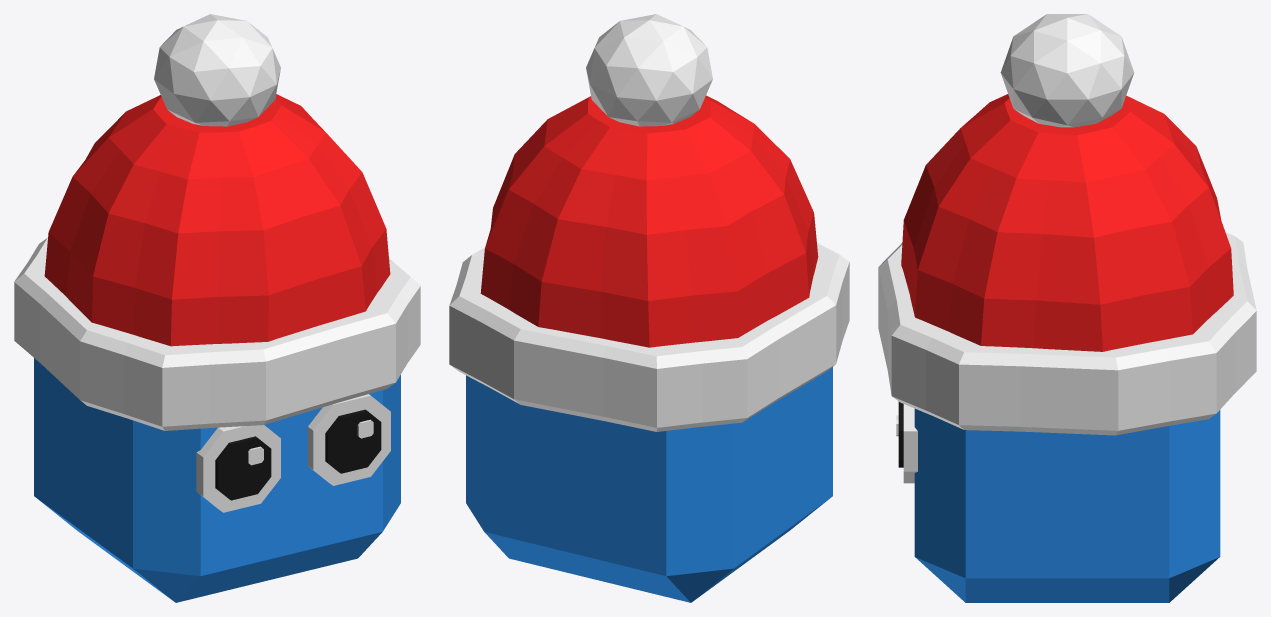
File: Beanie.fbx
The picture shows the model from 3 angles, left to right: view 1: azimuth 30°, elevation 25°; view 2: azimuth 150°, elevation 25°; view 3: azimuth 270°, elevation 25°; orthographic projection. The views are drawn at different scales.
Parts seen in each view (by area): view 1: Beanie_Hat, Beanie_Trim, Beanie, Beanie_Eyes, Beanie_Pupils; view 2: Beanie_Hat, Beanie, Beanie_Trim; view 3: Beanie_Hat, Beanie, Beanie_Trim, Beanie_Eyes.
Boxes of the visible parts, x1,y1,x2,y2 form: Beanie_Hat: (44, 94, 390, 346); Beanie_Trim: (14, 14, 420, 430); Beanie: (34, 358, 400, 602); Beanie_Eyes: (196, 394, 390, 512); Beanie_Pupils: (215, 409, 381, 500); Beanie_Hat: (480, 95, 818, 347); Beanie: (466, 367, 832, 602); Beanie_Trim: (449, 14, 849, 431); Beanie_Hat: (901, 94, 1233, 351); Beanie: (914, 409, 1220, 602); Beanie_Trim: (878, 14, 1256, 435); Beanie_Eyes: (896, 404, 917, 483).
Bounding box in the file's own units: 2.42 × 3.74 × 2.38.
